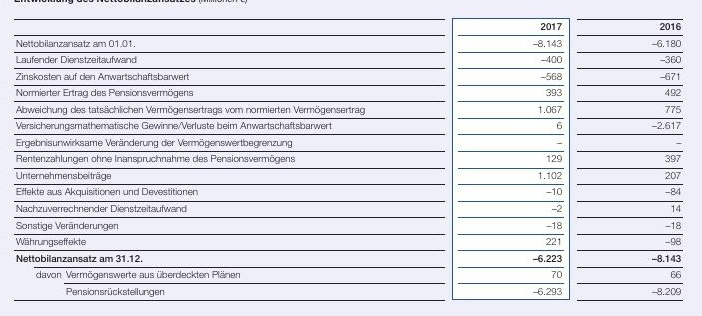table: (0, 0, 702, 316)
